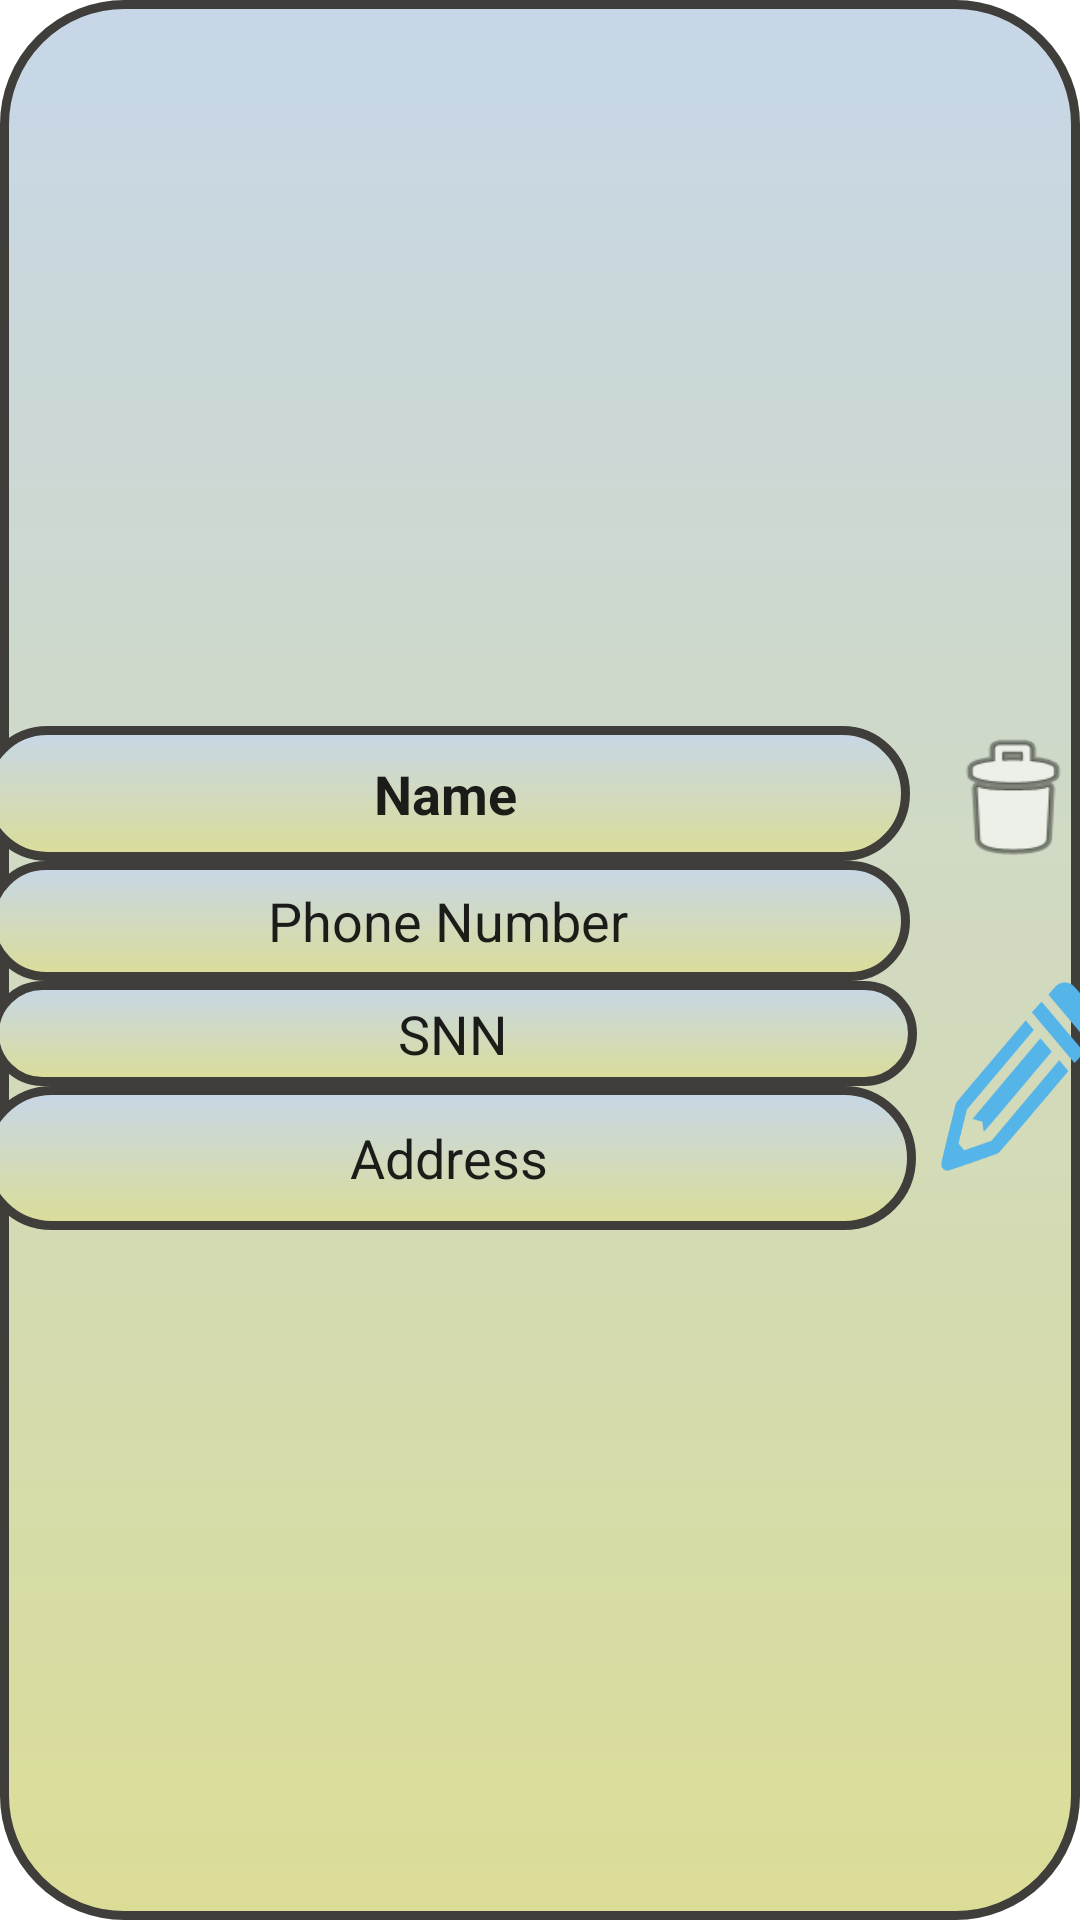

Icons on this 1080*1920 Android screen, each with the point to tap as point (x, y):
delete: point (1013, 797)
